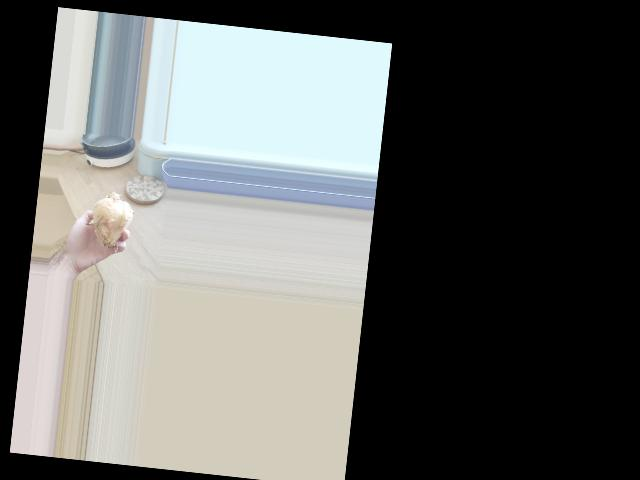onion: (88, 192, 136, 252)
